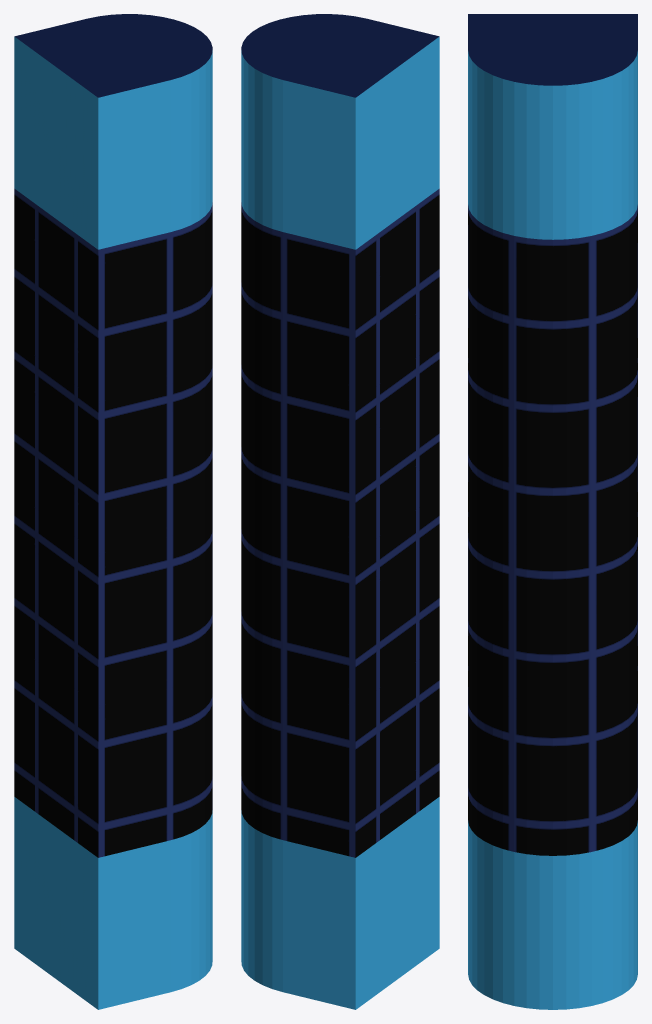
The model's file is wall_center_bevel_2.glb.
3 views of the same model, side by side, from view 1: azimuth 30°, elevation 25°; view 2: azimuth 150°, elevation 25°; view 3: azimuth 270°, elevation 25° (orthographic).
Visible parts, largest first — view 1: WallCenterBevel2; view 2: WallCenterBevel2; view 3: WallCenterBevel2.
Boxes of the visible parts, <box> form: WallCenterBevel2: <box>14,14,212,1009</box>; WallCenterBevel2: <box>241,14,439,1009</box>; WallCenterBevel2: <box>468,14,637,1009</box>.
Bounding box in the file's own units: 0.5 × 3 × 0.5.
Materials: 3 (1 with a texture image).
